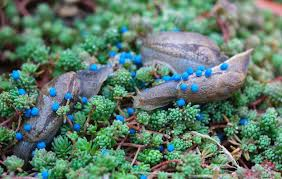slug: (15, 67, 114, 161), (130, 48, 253, 110), (134, 31, 224, 67)
